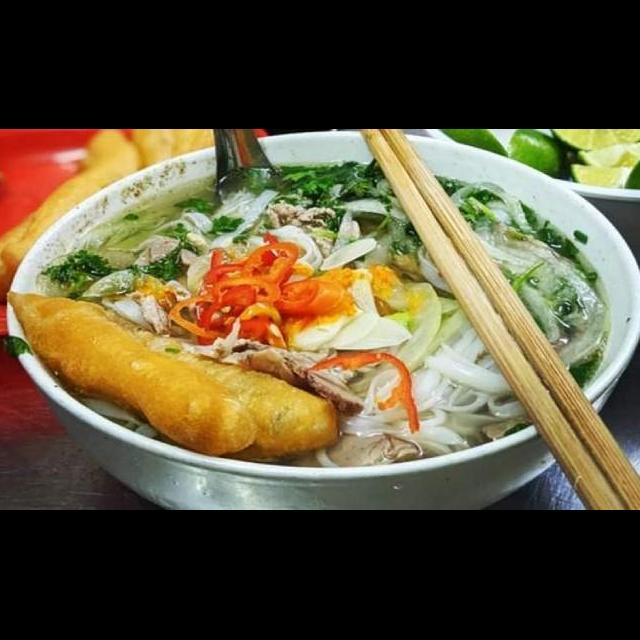banh pho: (334, 326, 532, 464), (168, 184, 328, 284)
pho bo: (36, 152, 639, 511)
thit bo: (200, 332, 368, 421)
